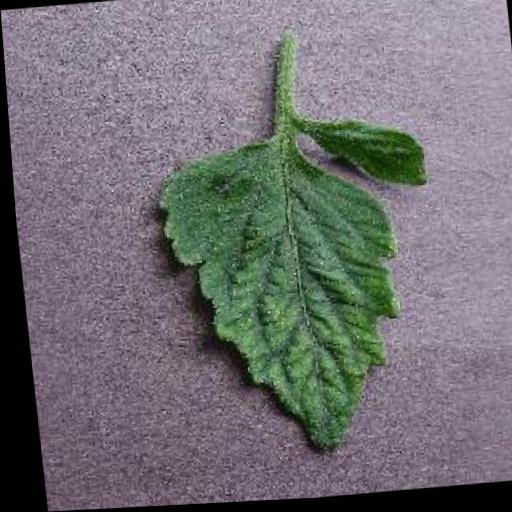Mosaic Virus: (148, 128, 409, 474), (297, 118, 428, 203)
